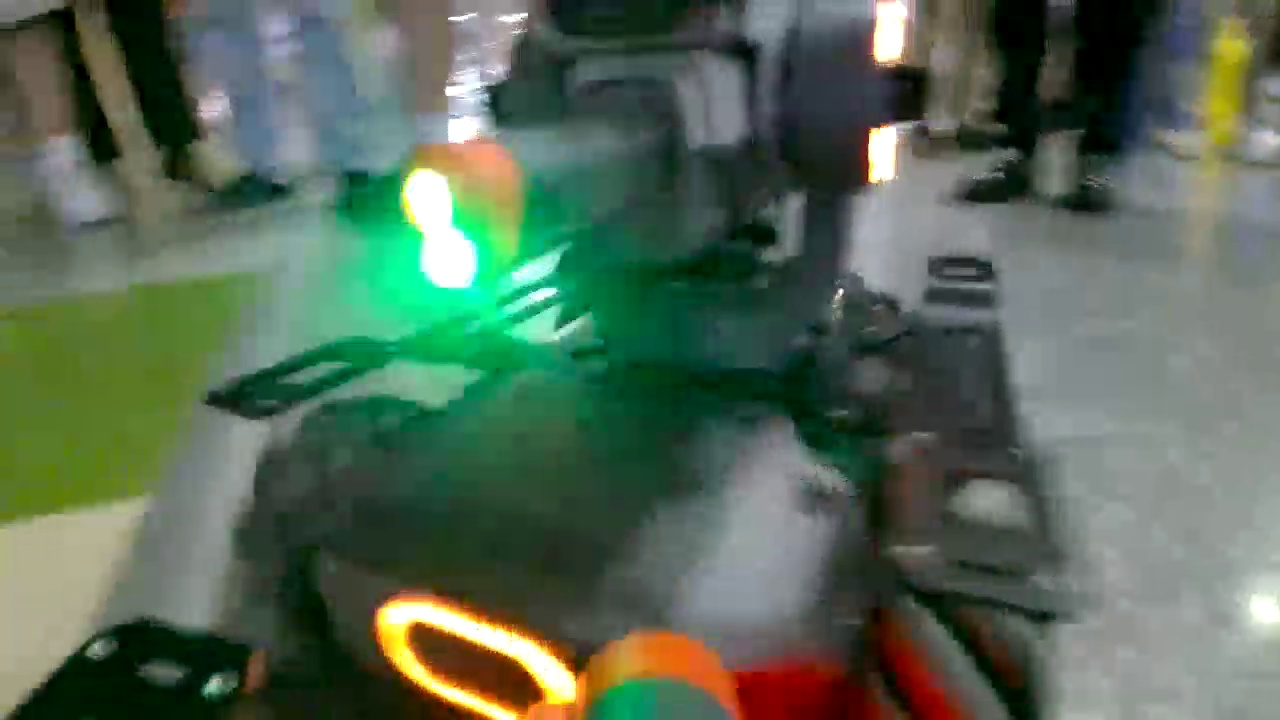robot: (161, 3, 1083, 720)
